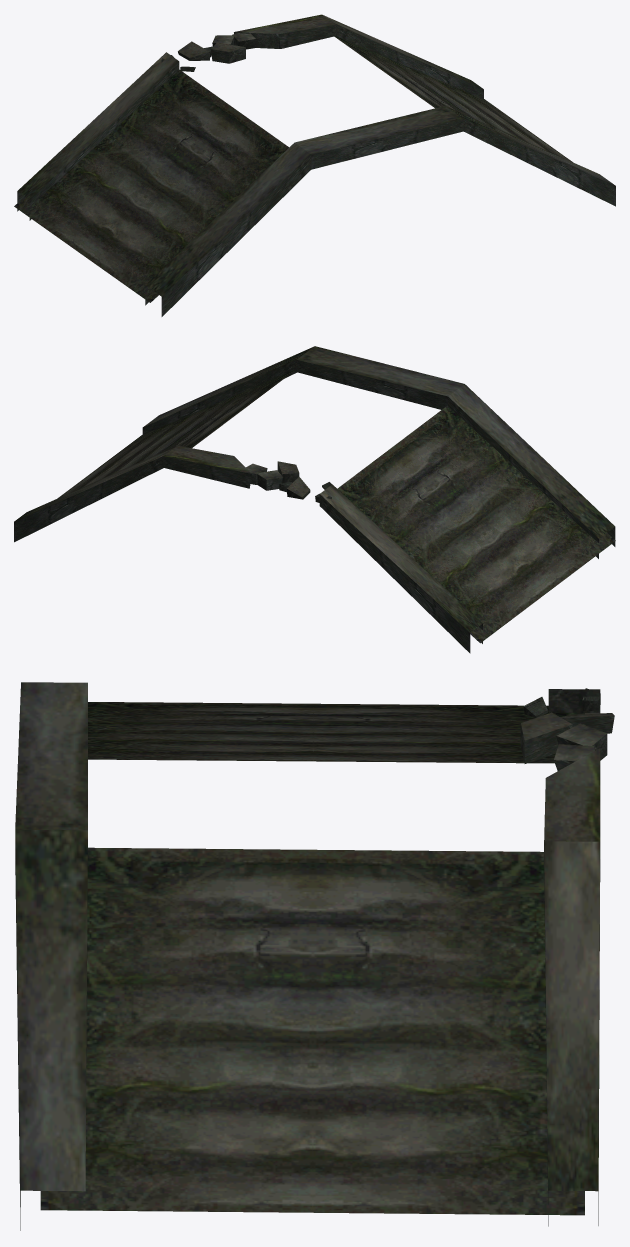
Rendered from qiaomian.FBX.
3 renders of one model, top to bottom at view 1: azimuth 30°, elevation 25°; view 2: azimuth 150°, elevation 25°; view 3: azimuth 270°, elevation 25°, orthographic. The views are drawn at different scales.
Visible parts, largest first — view 1: qiao; view 2: qiao; view 3: qiao.
Boxes of the visible parts, x1=… form: qiao: x1=14, y1=14, x2=615, y2=316; qiao: x1=14, y1=346, x2=615, y2=653; qiao: x1=15, y1=682, x2=614, y2=1230.
Bounding box in the file's own units: 1039 × 273 × 583.
